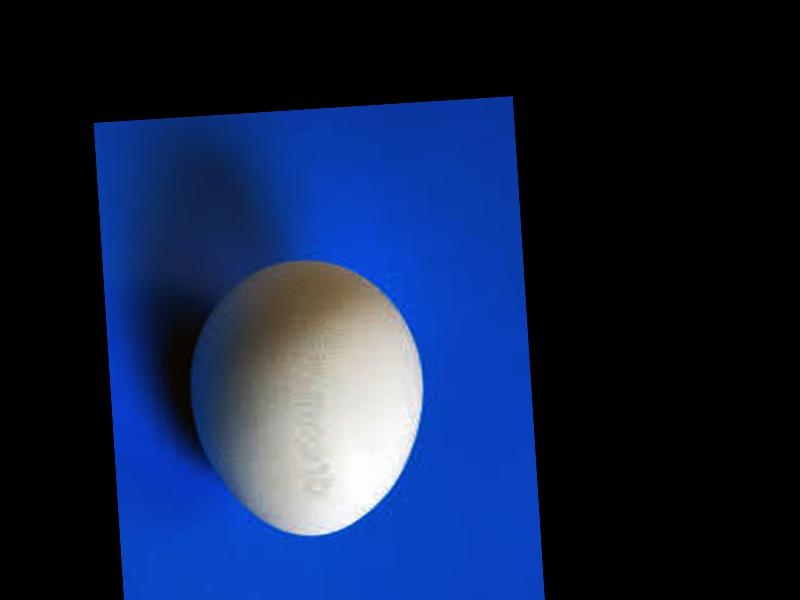Eggs: (180, 251, 432, 546)
